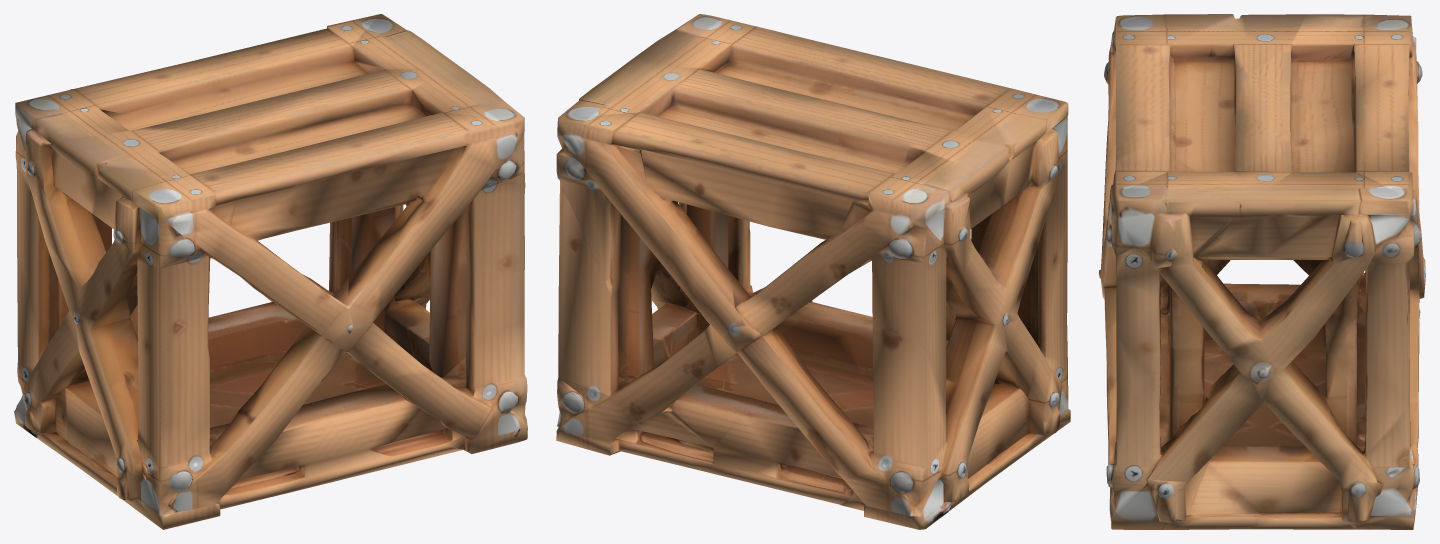
File: crate.glb
3 views of the same model, side by side, from view 1: azimuth 30°, elevation 25°; view 2: azimuth 150°, elevation 25°; view 3: azimuth 270°, elevation 25° (orthographic). The views are drawn at different scales.
Size of the model in its own units: 2 by 1.55 by 1.39.
1 material, 1 textured.
